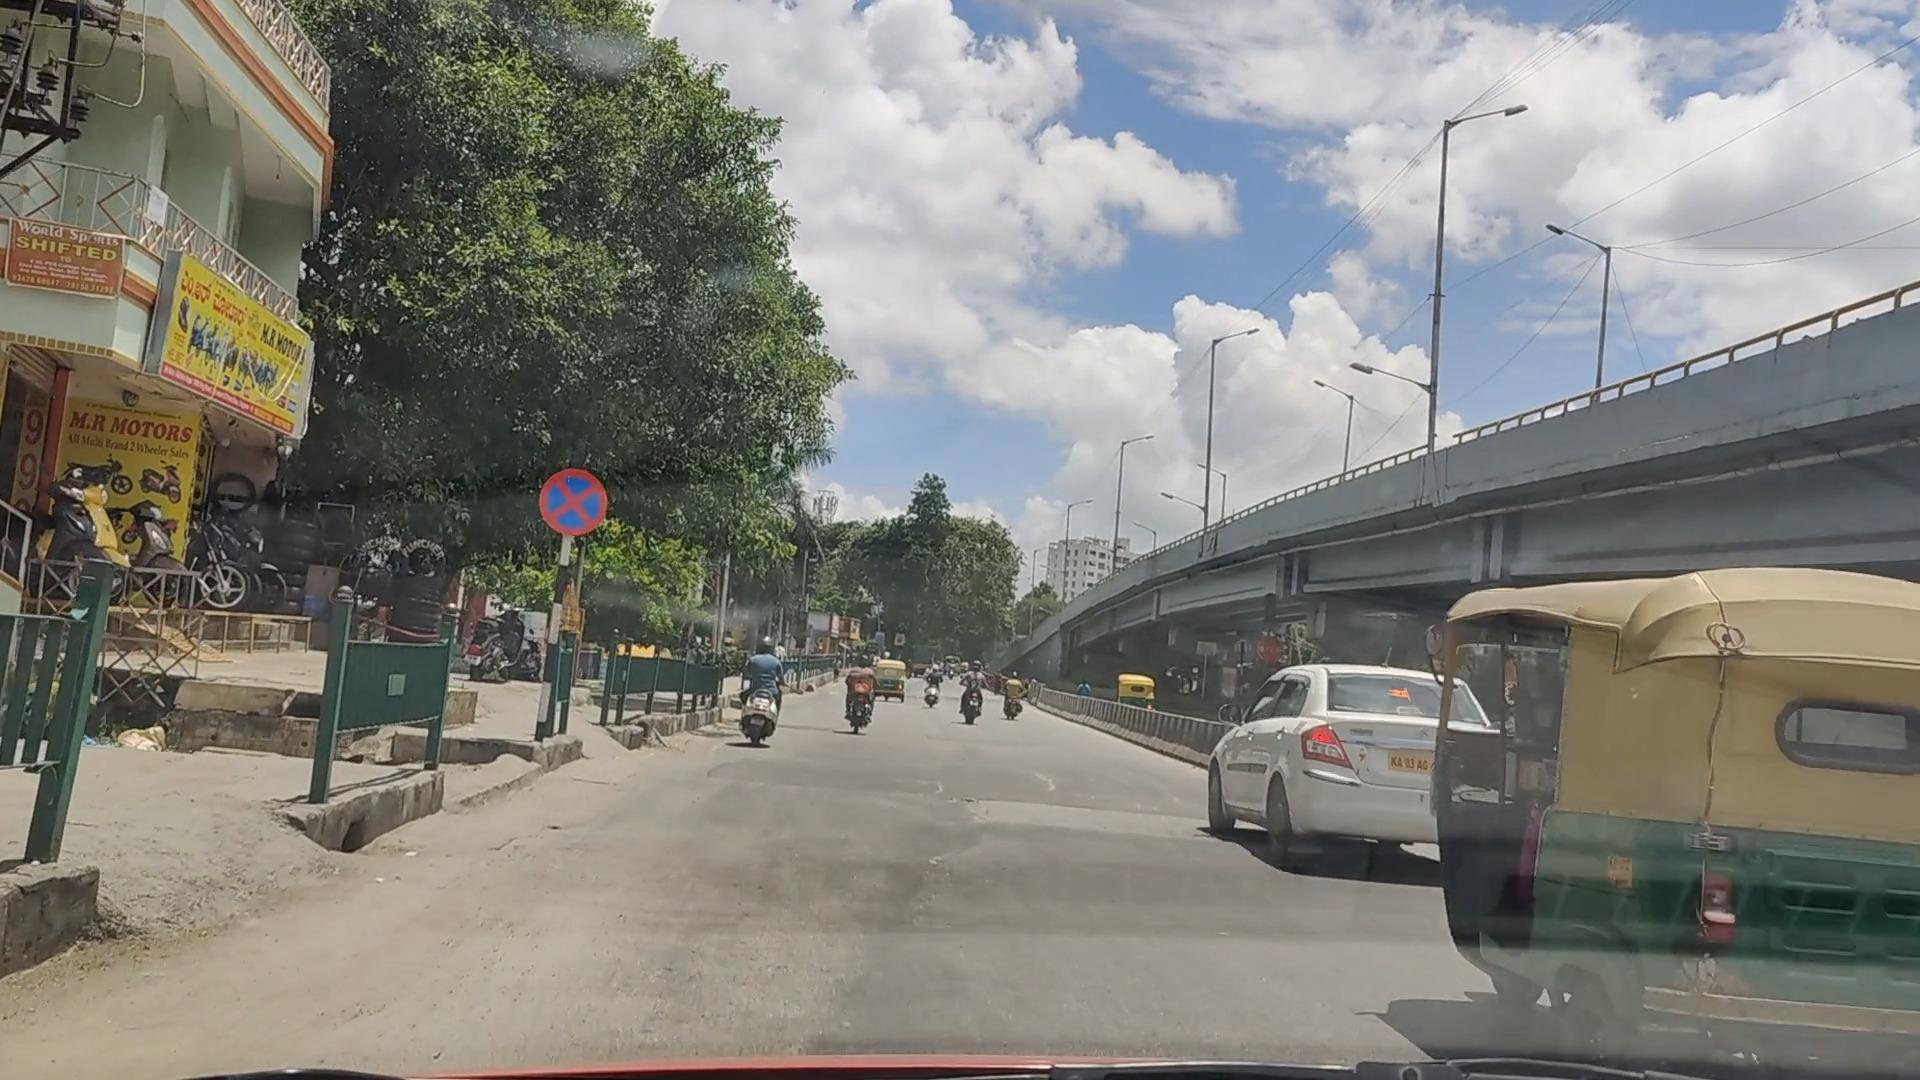LMV: (1200, 659, 1478, 882), (745, 640, 782, 746), (843, 651, 880, 745), (956, 658, 986, 733)
RoadDamages: (947, 793, 1199, 824), (1023, 766, 1058, 791), (926, 775, 942, 795)
